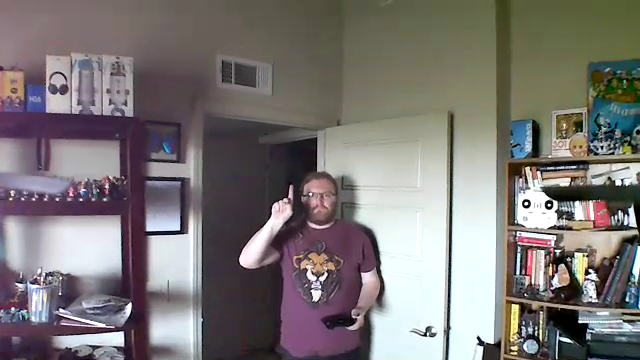up: (267, 180, 297, 222)
